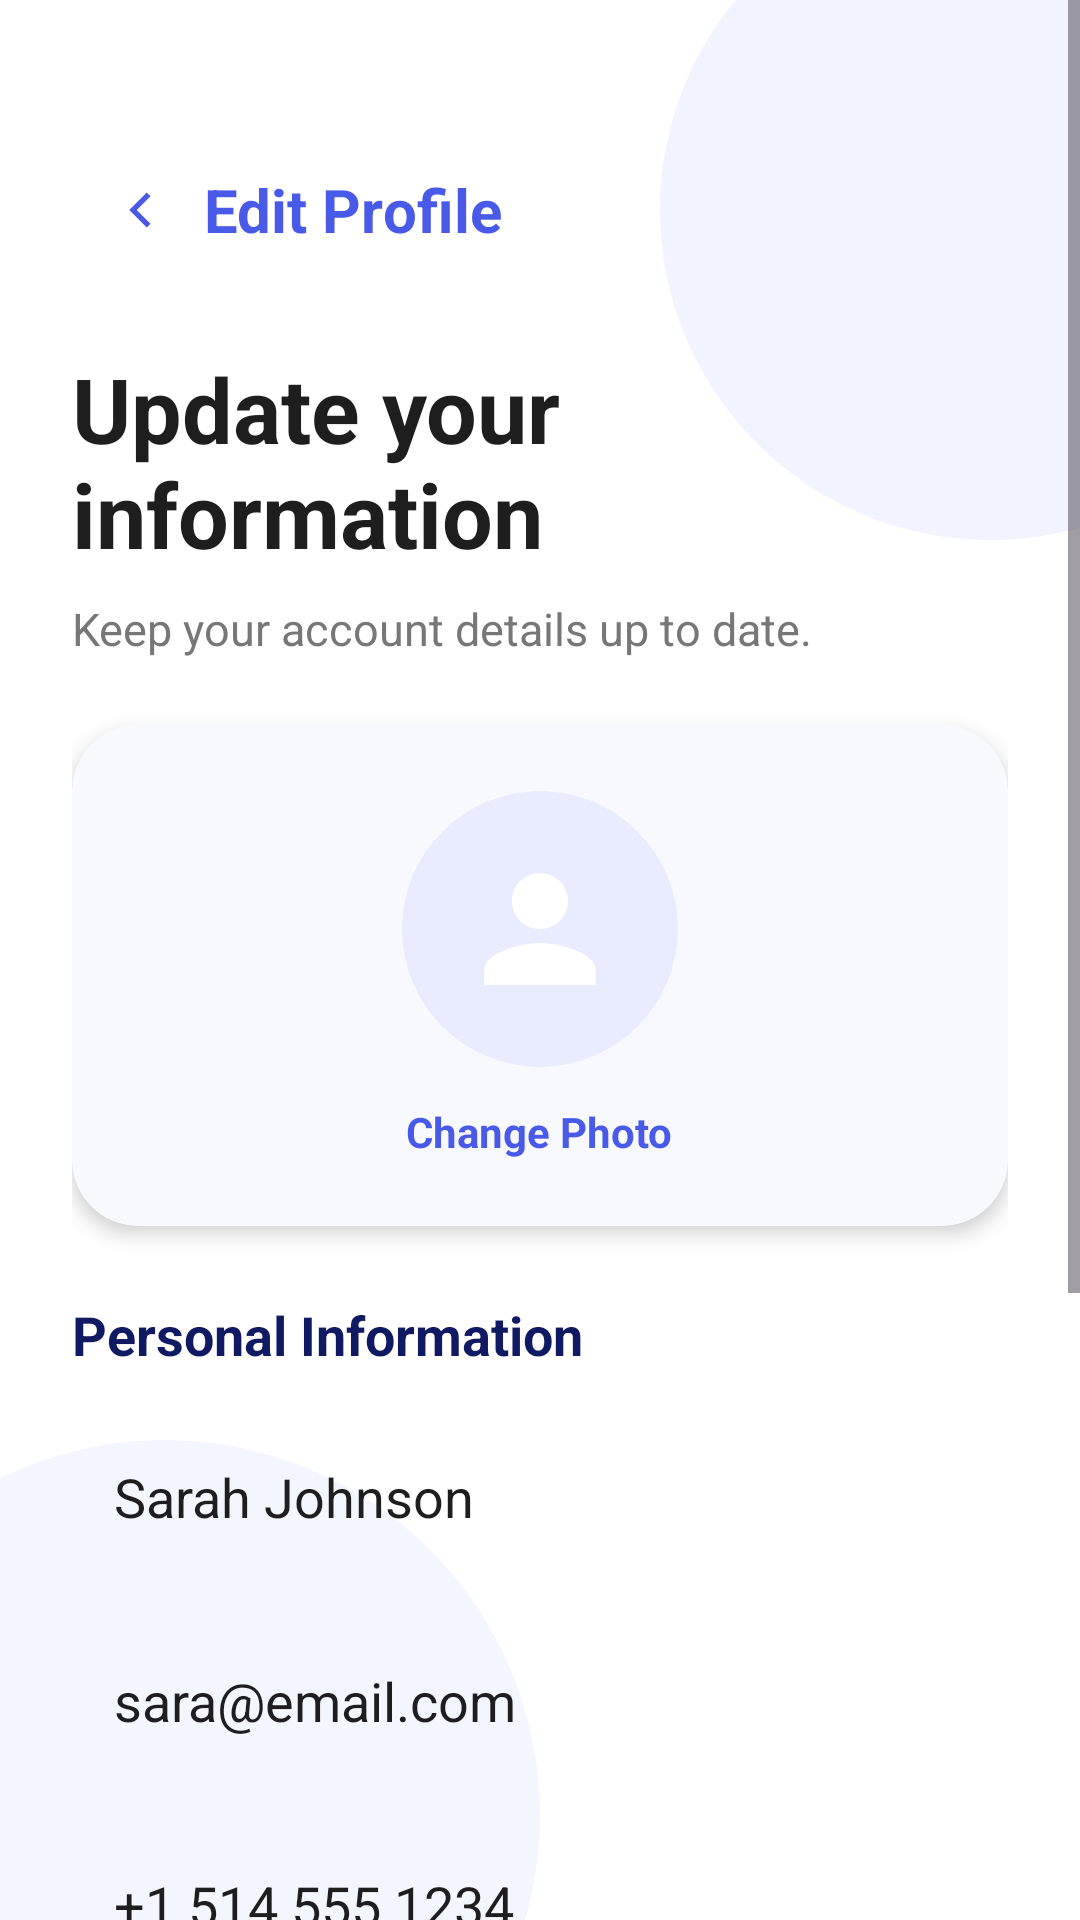

Icons on this 1080 x 1920 Android screen, each with the point to tap as point (x, y):
Back: point (140, 210)
